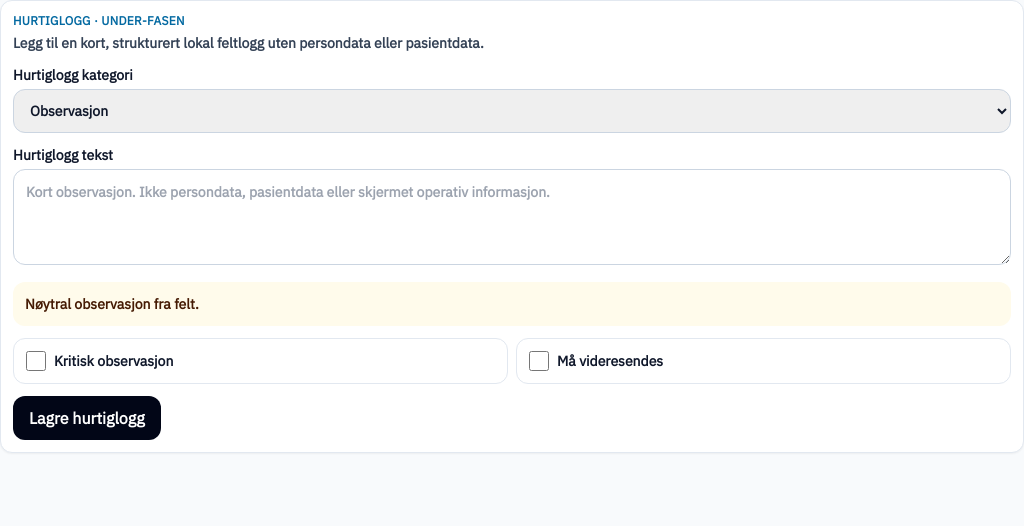
Test case: QuickFieldLogComposer › adds a structured quick field-log entry with category and flags
Check: the text "Hurtiglogg · Under-fasen" is shown, box [13,13,185,28]
In the text box labelled "Hurtiglogg tekst": (512,217) [13,169,1011,265], type "Vannstand øker ved pumpested"
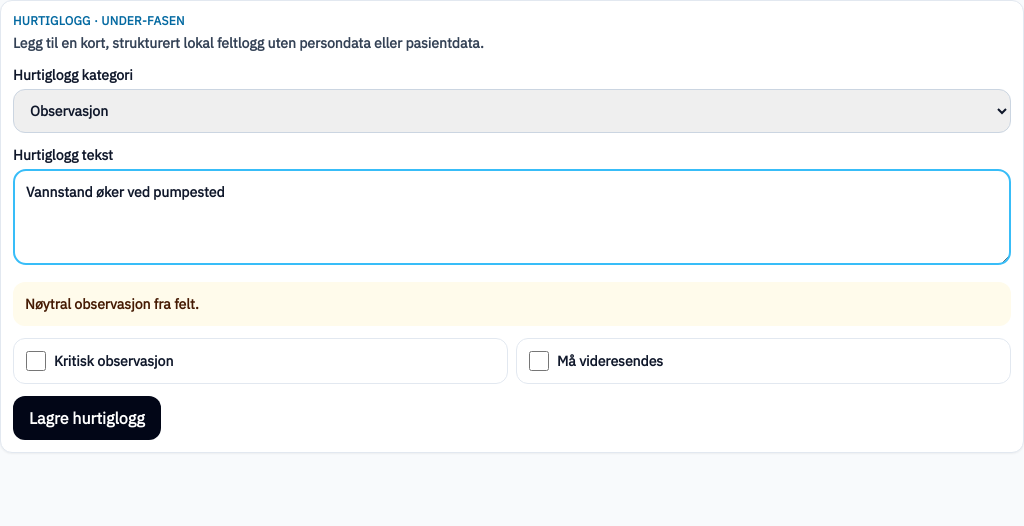
Click the checkbox labelled "Kritisk observasjon": (36,361) [26,351,46,371]
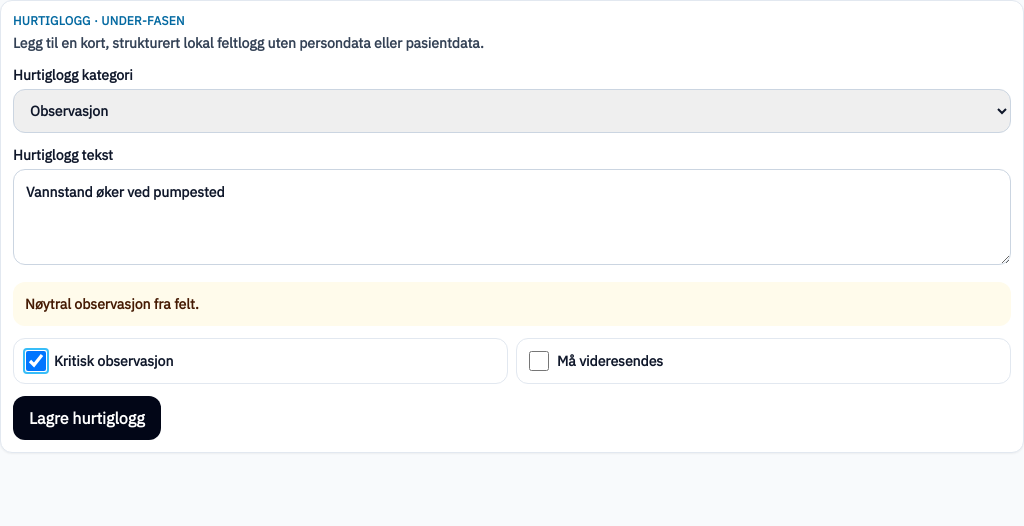
Click the button "Lagre hurtiglogg": (87,418) [13,396,161,440]
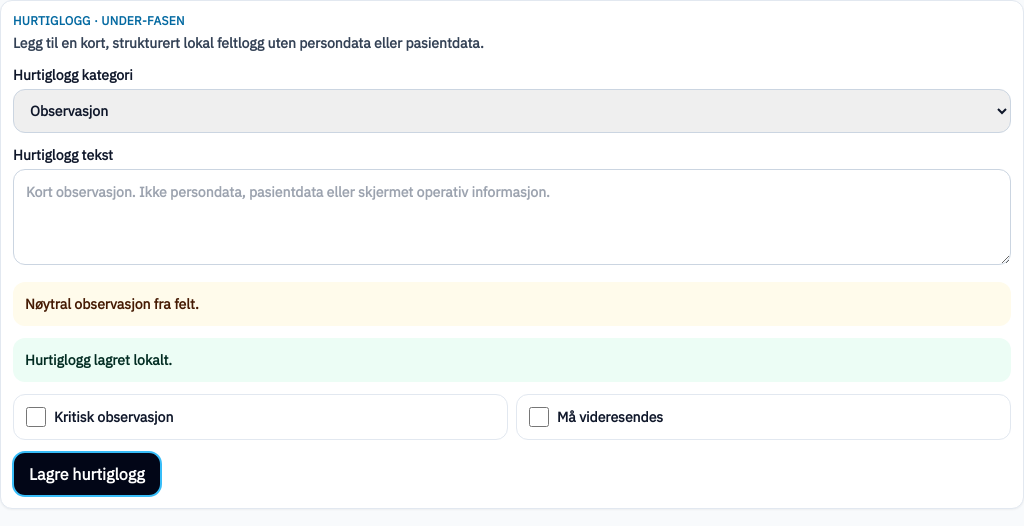
Check: the message shows "Hurtiglogg lagret lokalt", box [25,351,172,369]
